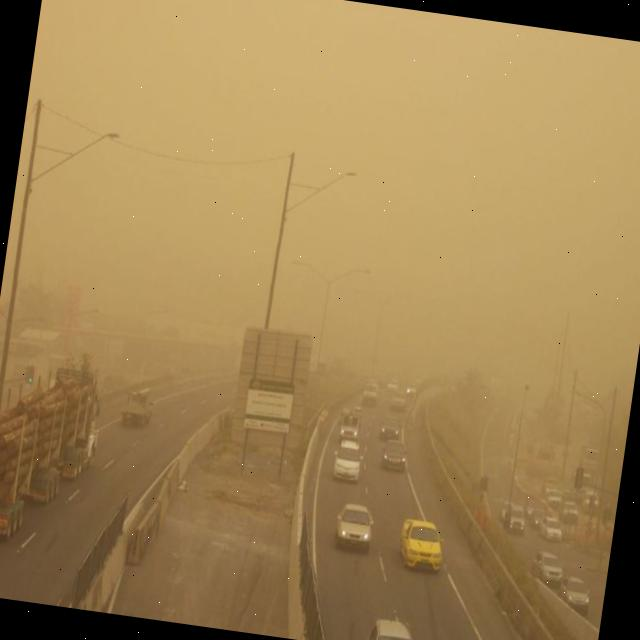bus: (0, 359, 107, 550), (122, 386, 156, 428), (577, 442, 601, 477)
car: (396, 517, 448, 574), (332, 500, 378, 552), (331, 435, 365, 483), (363, 612, 421, 640), (530, 550, 568, 590), (560, 576, 594, 618), (379, 438, 409, 473), (538, 517, 566, 544), (504, 508, 528, 536), (558, 498, 580, 524), (377, 418, 400, 442), (545, 488, 563, 514), (360, 384, 378, 408), (390, 390, 408, 412), (582, 490, 599, 513), (529, 508, 545, 528)
